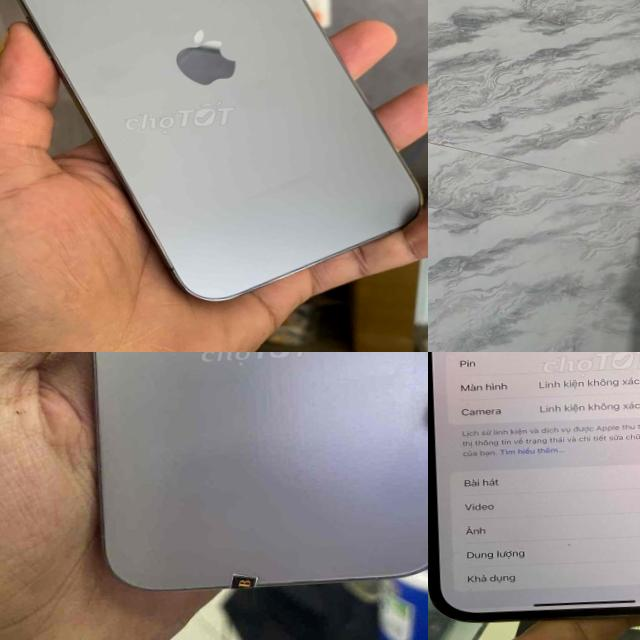gen_12_13: (0, 0, 428, 313), (428, 352, 640, 629)
gen_15: (53, 352, 428, 618)
